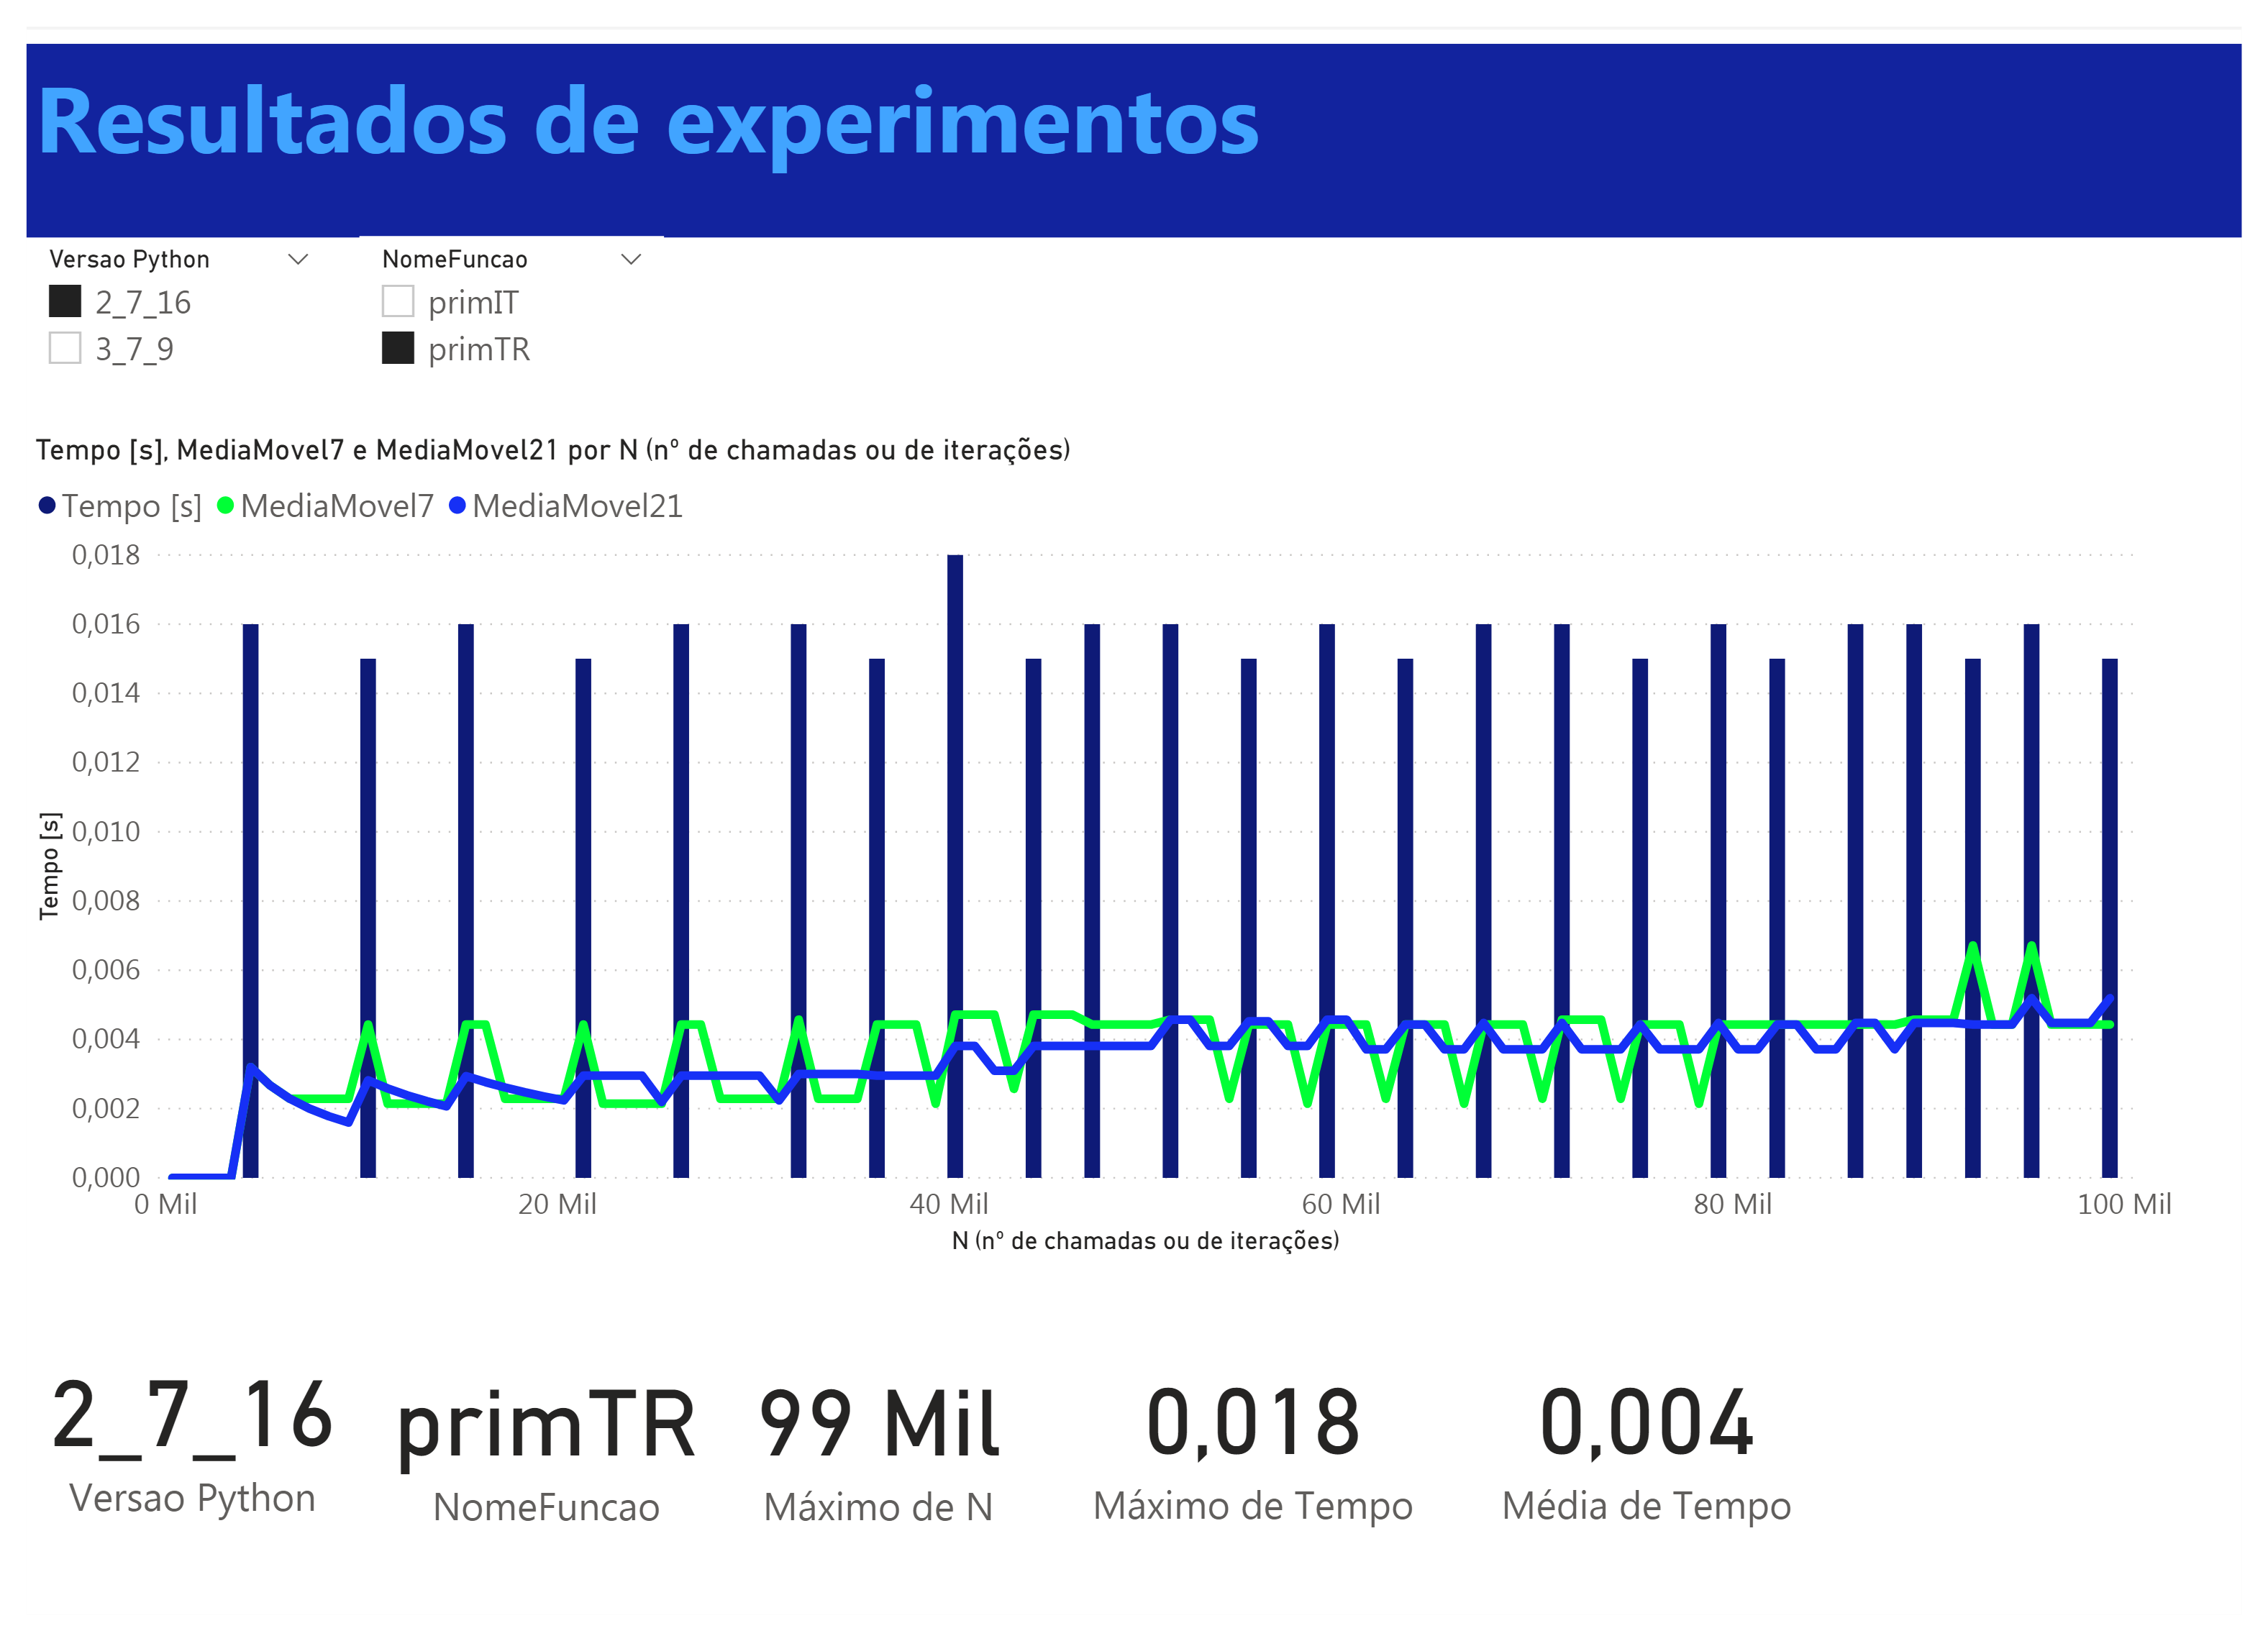

The dashboard page shown, as its layout file describes it:
{"tool":"powerbi","page":{"name":"Primo","canvas":[1280,900],"ordinal":10},"visuals":[{"type":"card","fields":{"Values":["Max(Tabela1.Tempo)"]},"box":[600,744,216,120],"z":0},{"type":"card","fields":{"Values":["Min(Tabela1.NomeFuncao)"]},"box":[192,720,216,168],"z":1000},{"type":"card","fields":{"Values":["Max(Tabela1.N)"]},"box":[408,720,168,168],"z":2000},{"type":"card","fields":{"Values":["Avg(Tabela1.Tempo)"]},"box":[840,744,192,120],"z":3000},{"type":"slicer","fields":{"Values":["Tabela1.Versao Python"]},"box":[0,112,176,112],"z":4000},{"type":"card","fields":{"Values":["Min(Tabela1.Versao Python)"]},"box":[0,704,192,192],"z":5000},{"type":"textbox","box":[0,0,1280,112],"z":6000},{"type":"slicer","fields":{"Values":["Tabela1.NomeFuncao"]},"box":[192,112,176,112],"z":7000},{"type":"lineClusteredColumnComboChart","fields":{"Y":["Sum(Tabela1.Tempo)"],"Category":["Tabela1.N"],"Y2":["Tabela1.MediaMovel7","Tabela1.MediaMovel7Numeros"]},"box":[0,224,1248,480],"z":8000}]}

Visuals, with their boxes in screenshot pixels (x1, y1, x2, y2), scaled from the page's 1280x900 canvas onto the 2268x1641 screenshot:
card - Max(Tabela1.Tempo): locate(1063, 1356, 1446, 1576)
card - Min(Tabela1.NomeFuncao): locate(340, 1313, 723, 1619)
card - Max(Tabela1.N): locate(723, 1313, 1021, 1619)
card - Avg(Tabela1.Tempo): locate(1488, 1356, 1828, 1576)
slicer - Tabela1.Versao Python: locate(0, 204, 312, 408)
card - Min(Tabela1.Versao Python): locate(0, 1284, 340, 1634)
textbox: locate(0, 0, 2267, 204)
slicer - Tabela1.NomeFuncao: locate(340, 204, 652, 408)
lineClusteredColumnComboChart - Sum(Tabela1.Tempo) x Tabela1.N: locate(0, 408, 2211, 1284)
